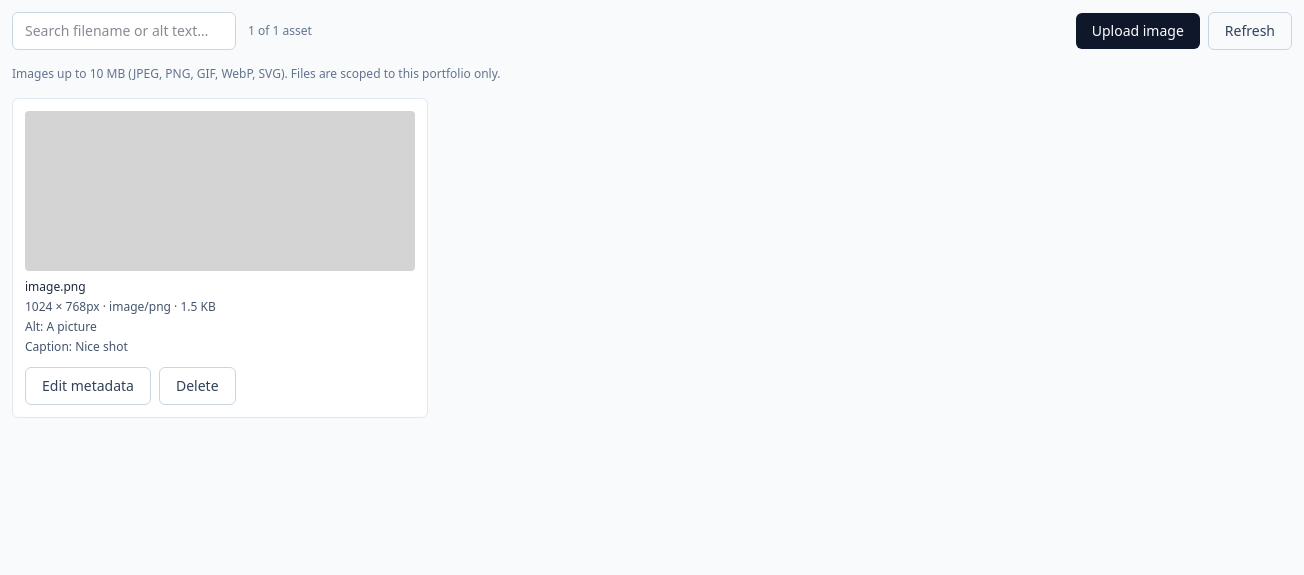
Test case: MediaLibrary › saves edited alt text and caption metadata
The image size is (1304, 575).
Expected: the text "image.png" is shown, x1=25 y1=278 x2=86 y2=295
Click the button "Edit metadata" at (88, 386), box x1=25 y1=367 x2=151 y2=405
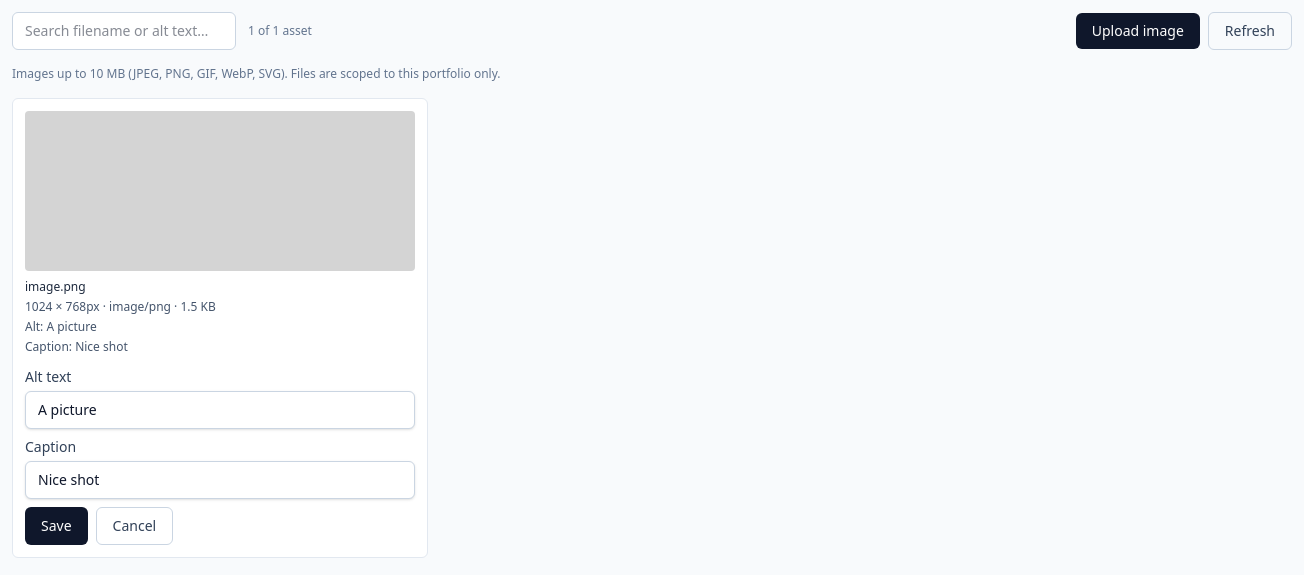
Replace the text in the field labelled "Alt text" with "Updated alt" at (220, 410), box x1=25 y1=391 x2=415 y2=429
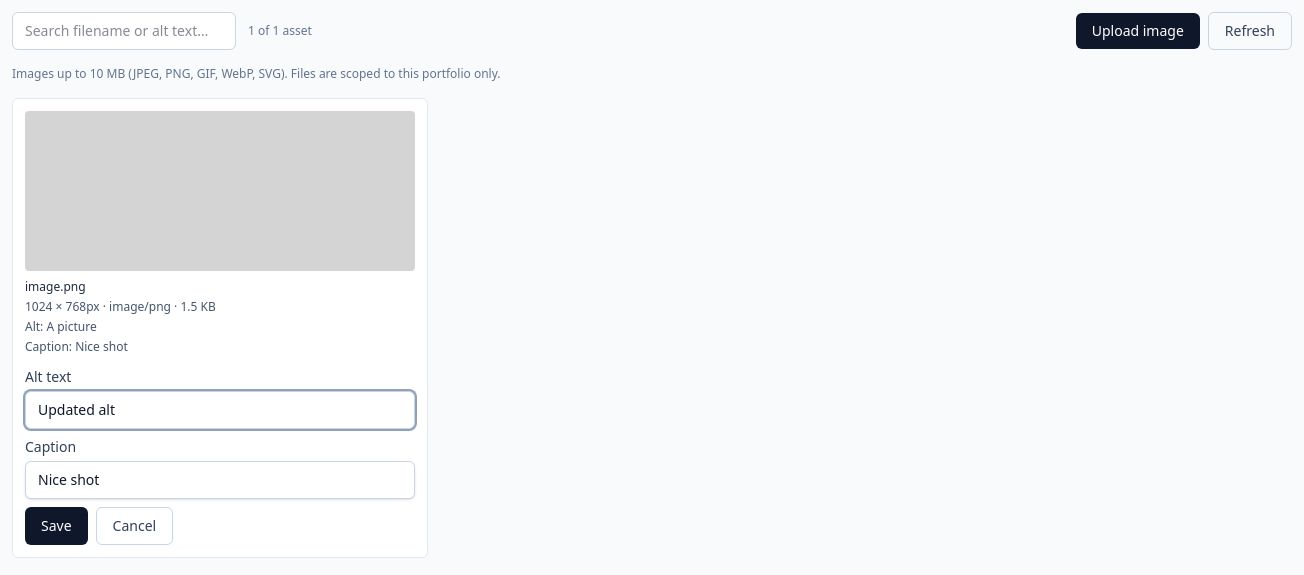
Click the button "Save" at (56, 526), box x1=25 y1=507 x2=88 y2=545
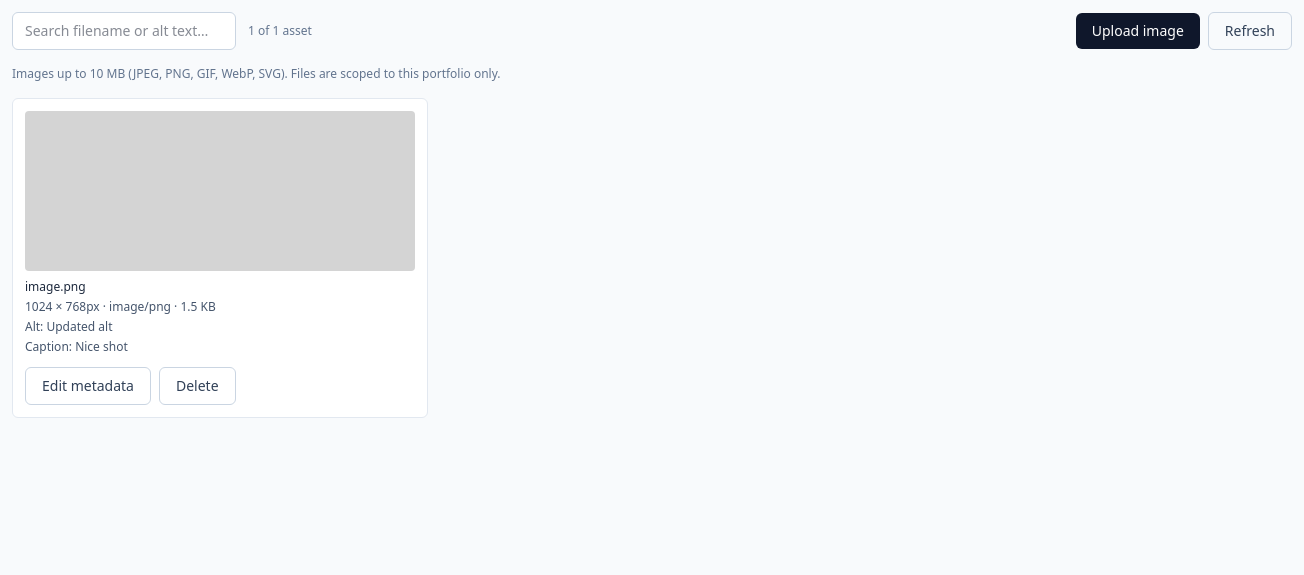
Expected: the text "Alt: Updated alt" is shown, x1=25 y1=318 x2=112 y2=335
